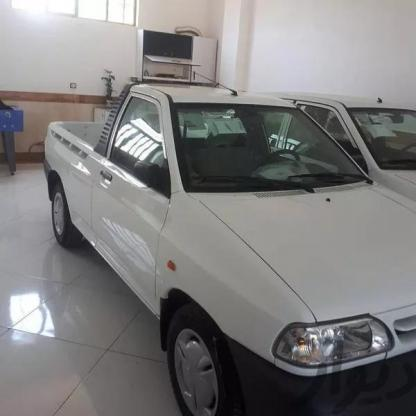Car: (43, 90, 416, 416), (272, 65, 416, 225)
